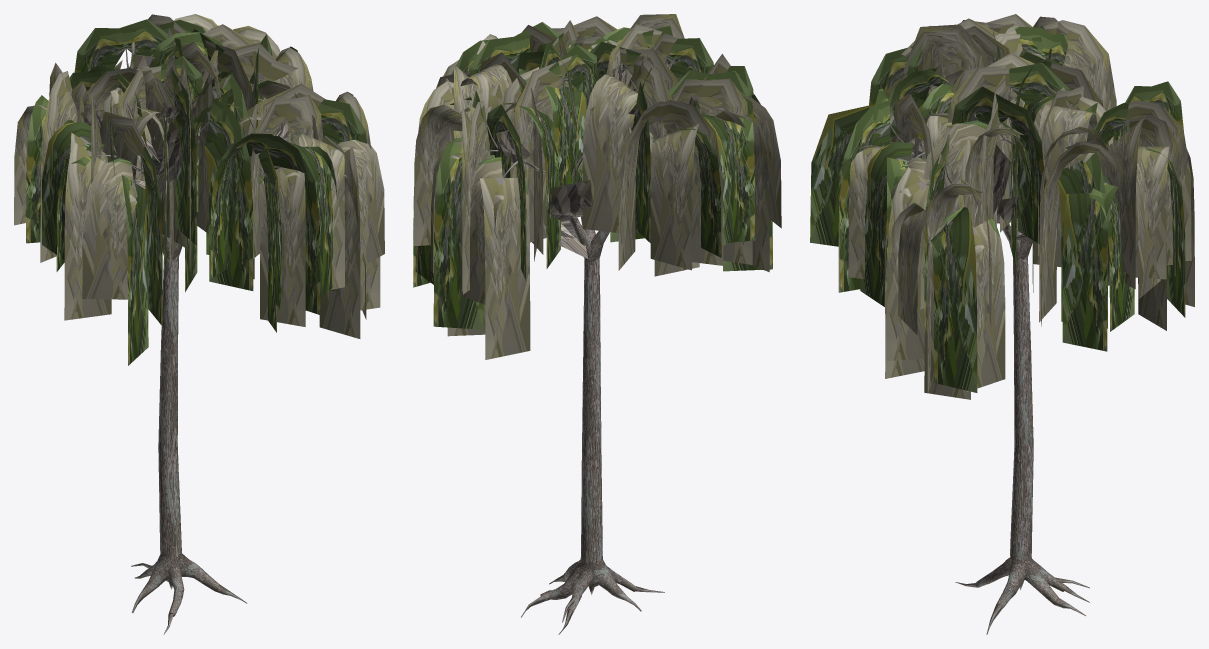
Rendered from Baldcypress_Model_0.obj.
3 renders of one model, left to right at view 1: azimuth 30°, elevation 25°; view 2: azimuth 150°, elevation 25°; view 3: azimuth 270°, elevation 25°, orthographic.
Visible parts, largest first — view 1: Foliage, Bark; view 2: Foliage, Bark; view 3: Foliage, Bark.
Boxes of the visible parts, x1,y1,x2,y2 form: Foliage: (14,14,384,365); Bark: (90,48,285,634); Foliage: (413,14,781,359); Bark: (487,57,705,634); Foliage: (810,14,1194,399); Bark: (882,85,1144,634).
Size of the model in its own units: 17.78 by 30 by 18.26.
2 materials, 2 textured.
